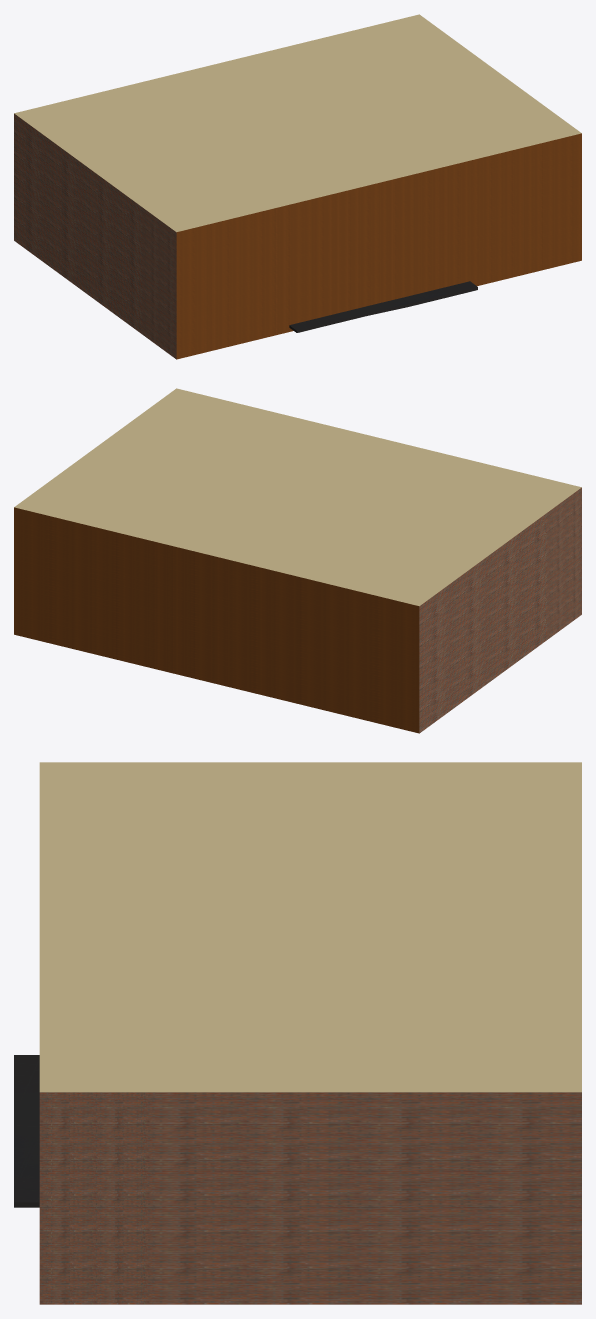
Rendered from Theater5-Hole.fbx.
3 renders of one model, top to bottom at view 1: azimuth 30°, elevation 25°; view 2: azimuth 150°, elevation 25°; view 3: azimuth 270°, elevation 25°, orthographic. The views are drawn at different scales.
Visible parts, largest first — view 1: Theater, Stage; view 2: Theater; view 3: Theater, Stage.
Part boxes in pixels (x1=…): Theater: x1=14, y1=14, x2=581, y2=359; Stage: x1=289, y1=281, x2=477, y2=332; Theater: x1=14, y1=388, x2=581, y2=733; Theater: x1=39, y1=762, x2=581, y2=1304; Stage: x1=14, y1=1055, x2=39, y2=1207.
Bounding box in the file's own units: 50 × 15 × 36.36.
